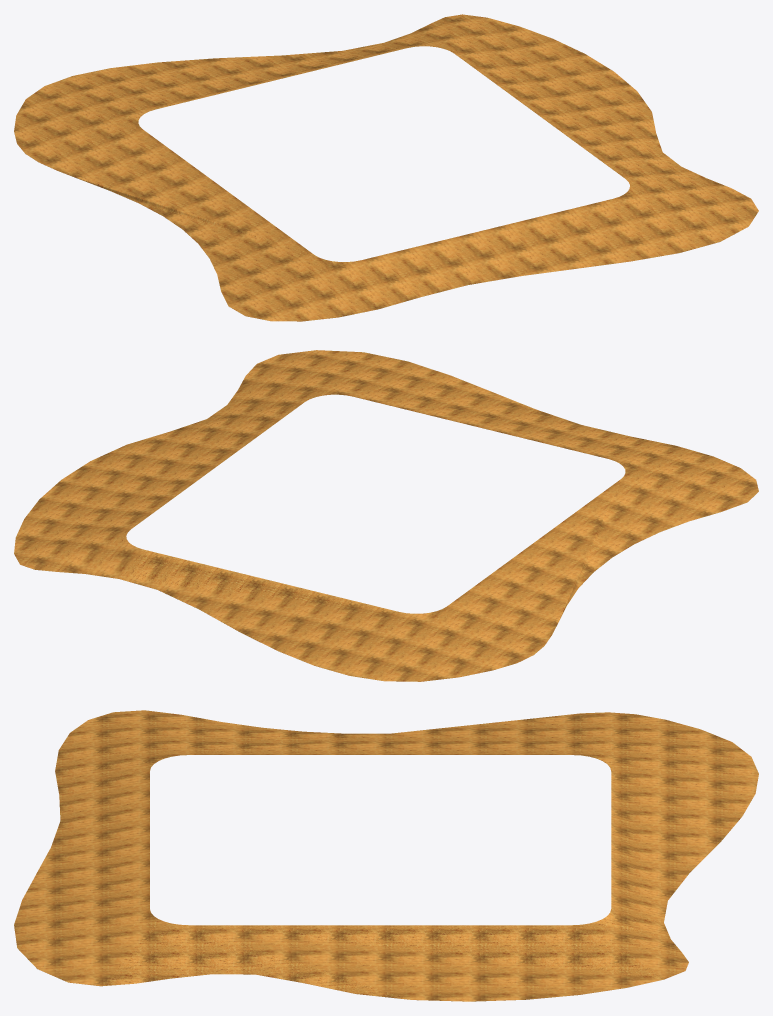
The picture shows the model from 3 angles, top to bottom: view 1: azimuth 30°, elevation 25°; view 2: azimuth 150°, elevation 25°; view 3: azimuth 270°, elevation 25°; orthographic projection. The views are drawn at different scales.
Parts seen in each view (by area): view 1: base; view 2: base; view 3: base.
Part boxes in pixels (x1,y1,x2,y2): base: (14,14,758,321); base: (14,350,758,681); base: (14,710,758,1001).
Size of the model in its own units: 258158 by 5843 by 280050.
Materials: 1 (1 with a texture image).
